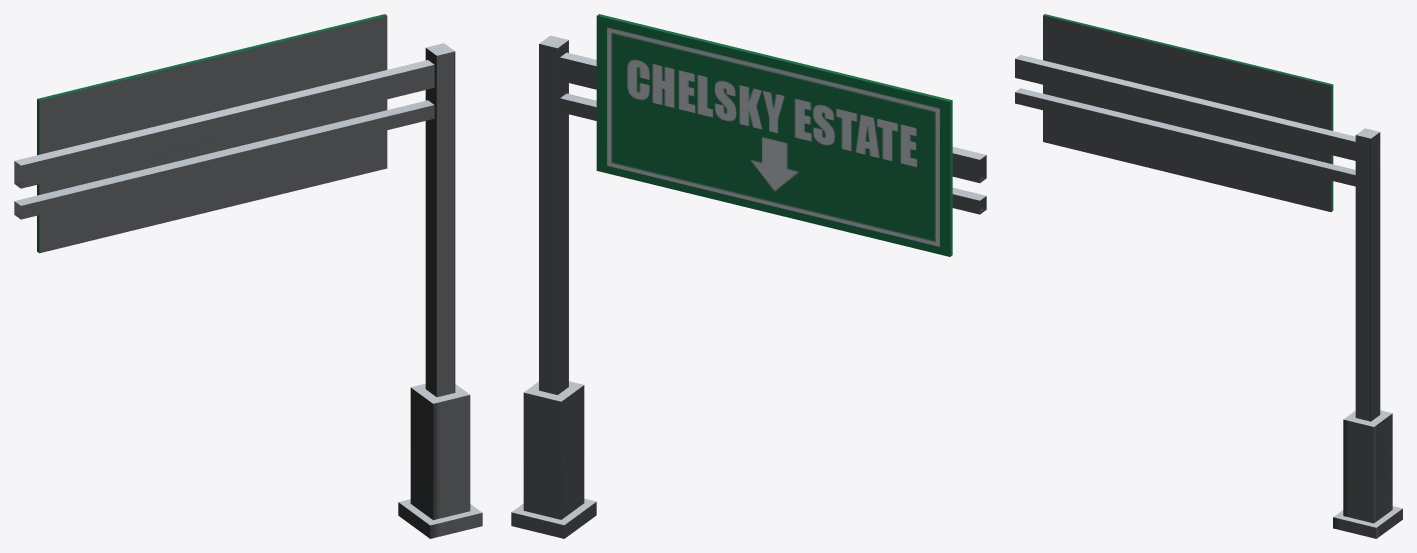
The model's file is Prop_Districtsign_06.fbx.
3 views of the same model, side by side, from view 1: azimuth 30°, elevation 25°; view 2: azimuth 150°, elevation 25°; view 3: azimuth 330°, elevation 25° (orthographic). The views are drawn at different scales.
Parts seen in each view (by area): view 1: road_sign2; view 2: road_sign2; view 3: road_sign2.
Part boxes in pixels (bbox=[...]): road_sign2: bbox=[14, 14, 482, 538]; road_sign2: bbox=[511, 14, 986, 538]; road_sign2: bbox=[1015, 14, 1402, 538].
Bounding box in the file's own units: 9.01 × 9.86 × 1.11.
1 material, 1 textured.
